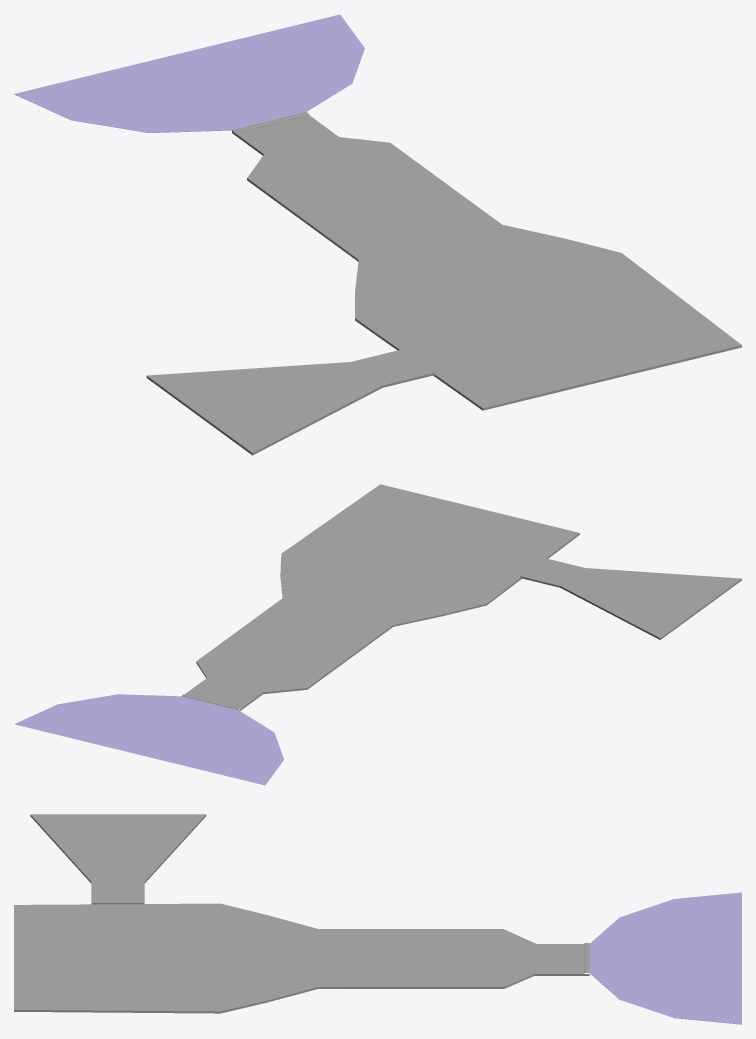
Rendered from New_Floors.fbx.
The picture shows the model from 3 angles, top to bottom: view 1: azimuth 30°, elevation 25°; view 2: azimuth 150°, elevation 25°; view 3: azimuth 270°, elevation 25°; orthographic projection. The views are drawn at different scales.
Visible parts, largest first — view 1: Floor_Big, Floor_Elevator, Floor_Small; view 2: Floor_Big, Floor_Elevator, Floor_Small; view 3: Floor_Big, Floor_Elevator, Floor_Small.
Boxes of the visible parts, x1,y1,x2,y2 form: Floor_Big: (232,112,741,410); Floor_Elevator: (14,14,364,132); Floor_Small: (146,349,434,455); Floor_Big: (182,484,579,710); Floor_Elevator: (14,694,283,785); Floor_Small: (520,558,741,639); Floor_Big: (14,903,589,1013); Floor_Elevator: (589,892,741,1024); Floor_Small: (30,814,206,904).
Size of the model in its own units: 470 by 3.62 by 691.
